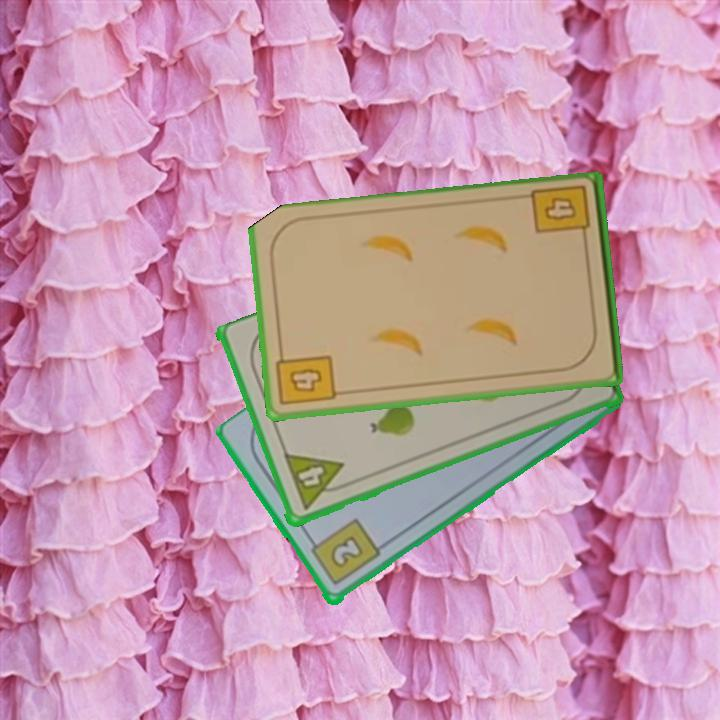2b: (305, 516, 383, 589)
4b: (529, 182, 594, 247), (273, 346, 338, 409)
4p: (281, 450, 352, 514)
